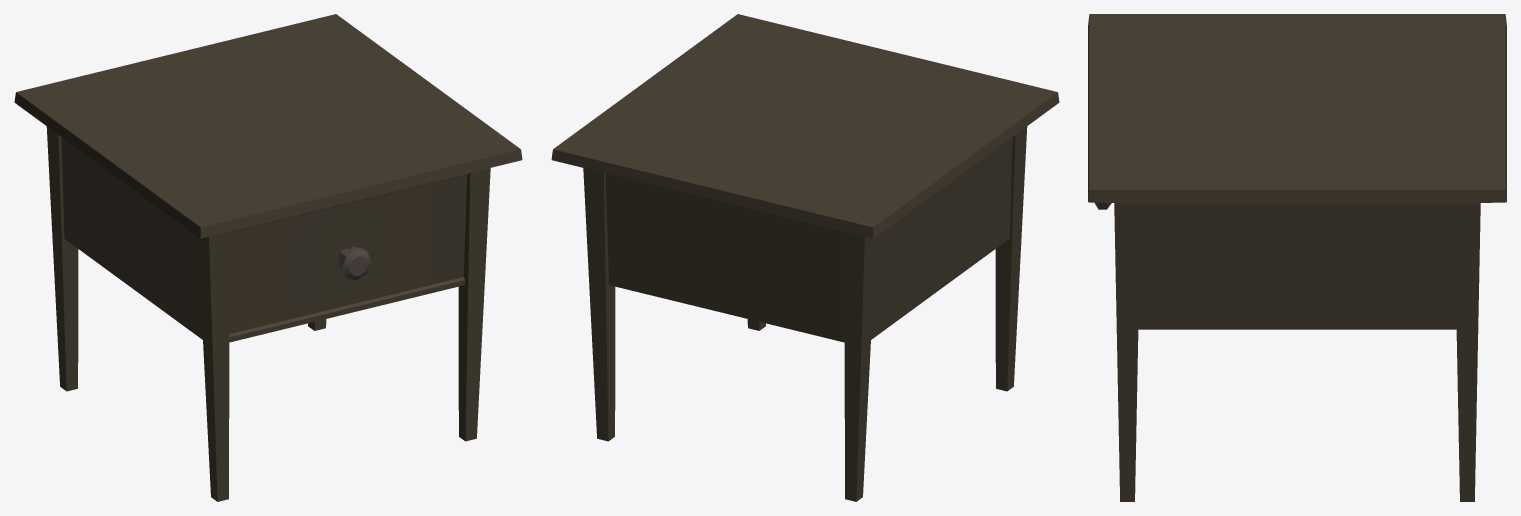
File: nightstand.glb
The picture shows the model from 3 angles, left to right: view 1: azimuth 30°, elevation 25°; view 2: azimuth 150°, elevation 25°; view 3: azimuth 270°, elevation 25°; orthographic projection. The views are drawn at different scales.
Parts seen in each view (by area): view 1: nightstand; view 2: nightstand; view 3: nightstand.
Boxes of the visible parts, x1,y1,x2,y2 form: nightstand: (14,14,522,501); nightstand: (551,14,1059,501); nightstand: (1088,14,1506,501).
Size of the model in its own units: 0.6349 by 0.55 by 0.6349.
